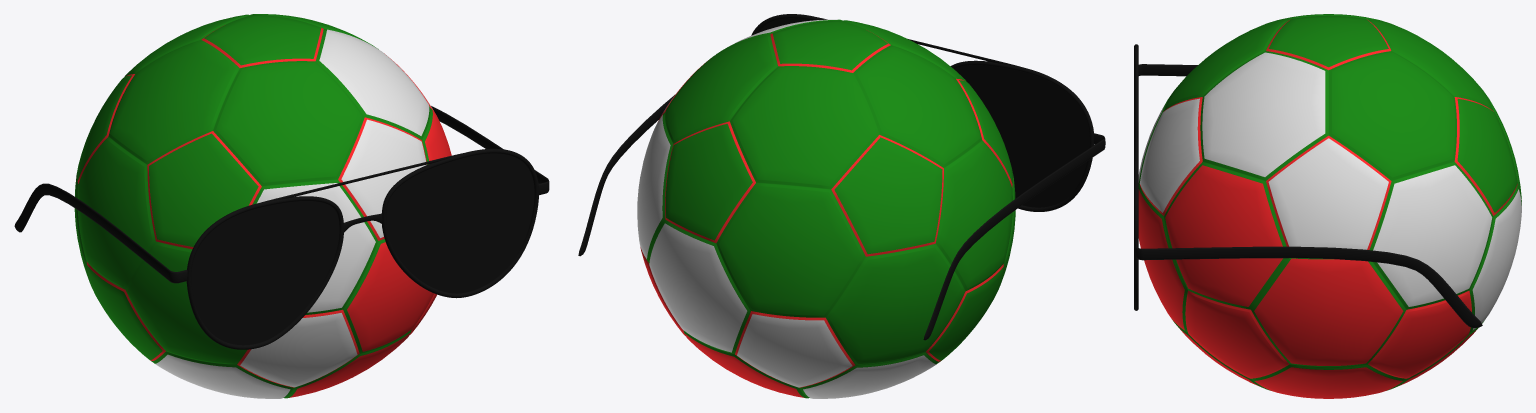
The model's file is Balonmx.glb.
3 renders of one model, left to right at view 1: azimuth 30°, elevation 25°; view 2: azimuth 150°, elevation 25°; view 3: azimuth 270°, elevation 25°, orthographic.
Parts seen in each view (by area): view 1: Esfera geodésica, Círculo Bezier, Círculo Bezier.001, Cubo.002, Cubo.003, Cubo.001; view 2: Esfera geodésica, Círculo Bezier, Cubo.002, Cubo.003, Círculo Bezier.001; view 3: Esfera geodésica, Cubo.003, Círculo Bezier.001, Cubo.002, Círculo Bezier.
Part boxes in pixels (x1,y1,x2,y2): Esfera geodésica: (74,14,451,398); Círculo Bezier: (186,196,343,349); Círculo Bezier.001: (381,148,538,298); Cubo.002: (14,183,187,283); Cubo.003: (431,106,549,195); Cubo.001: (252,151,473,205); Esfera geodésica: (637,19,1015,398); Círculo Bezier: (950,60,1094,211); Cubo.002: (923,133,1105,340); Cubo.003: (578,95,674,256); Círculo Bezier.001: (751,14,823,35); Esfera geodésica: (1138,14,1521,398); Cubo.003: (1135,243,1482,327); Círculo Bezier.001: (1134,137,1138,310); Cubo.002: (1138,64,1197,76); Círculo Bezier: (1134,44,1138,138).
Bounding box in the file's own units: 2 × 1.75 × 1.76.
